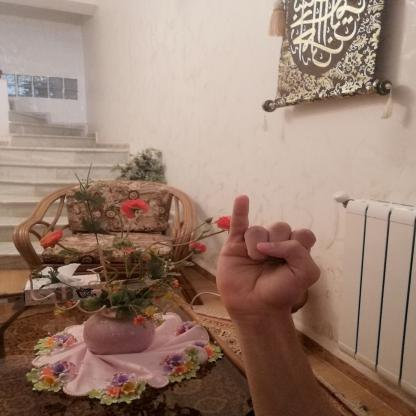MEEM: (200, 187, 334, 323)
